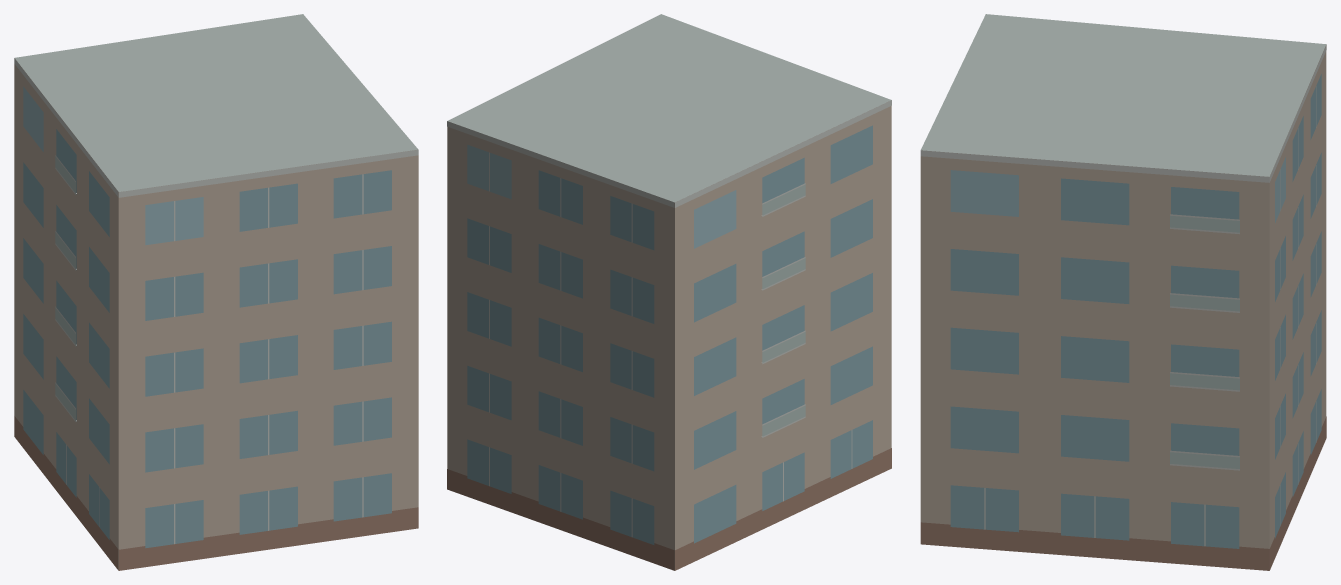
The model's file is survey-upis-32478346.glb.
3 views of the same model, side by side, from view 1: azimuth 30°, elevation 25°; view 2: azimuth 150°, elevation 25°; view 3: azimuth 270°, elevation 25° (orthographic). The views are drawn at different scales.
Visible parts, largest first — view 1: survey-upis-32478346.tmp; view 2: survey-upis-32478346.tmp; view 3: survey-upis-32478346.tmp.
Boxes of the visible parts, x1=… form: survey-upis-32478346.tmp: x1=14, y1=14, x2=418, y2=570; survey-upis-32478346.tmp: x1=447, y1=14, x2=891, y2=570; survey-upis-32478346.tmp: x1=920, y1=14, x2=1326, y2=570.
Size of the model in its own units: 14.26 by 16.08 by 15.02.
